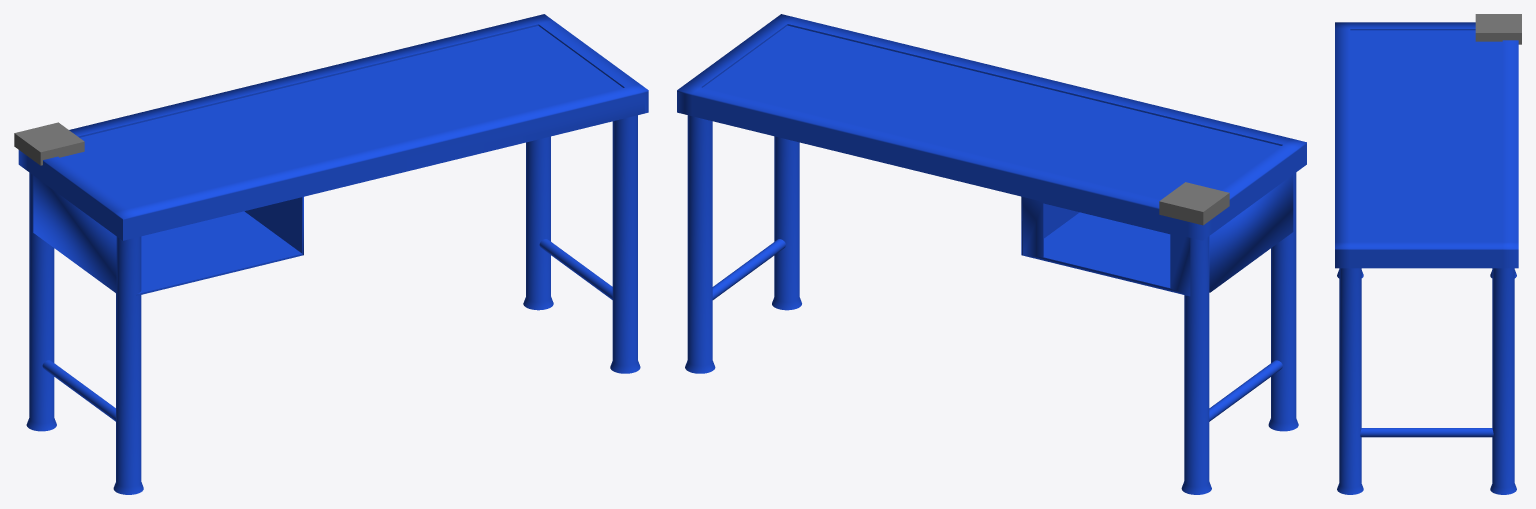
The model's file is Table.fbx.
3 renders of one model, left to right at view 1: azimuth 30°, elevation 25°; view 2: azimuth 150°, elevation 25°; view 3: azimuth 270°, elevation 25°, orthographic. The views are drawn at different scales.
Parts seen in each view (by area): view 1: Table; view 2: Table; view 3: Table.
Boxes of the visible parts, bbox=[...] form: Table: bbox=[14, 14, 648, 494]; Table: bbox=[677, 14, 1306, 494]; Table: bbox=[1335, 14, 1521, 494].
Bounding box in the file's own units: 287 × 150 × 99.84.
